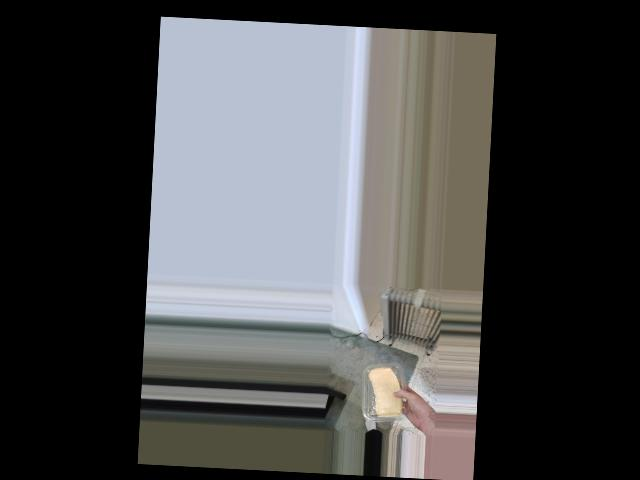cheese: (361, 359, 409, 422)
